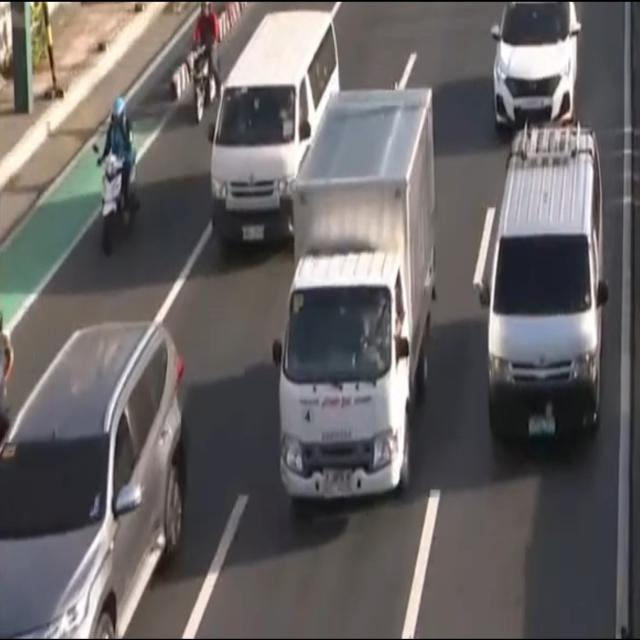Motorcycle: (94, 95, 138, 255), (188, 0, 222, 123)
SUV: (0, 324, 185, 640)
Sedan: (491, 0, 581, 135)
Truck: (276, 84, 437, 510)
Van: (479, 127, 604, 449), (210, 13, 340, 262)
